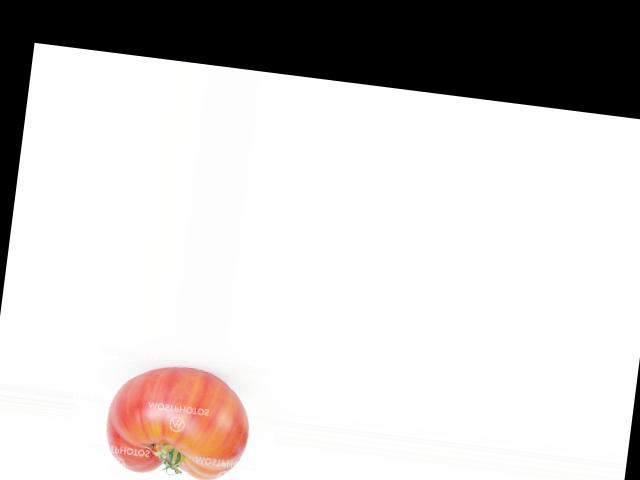tomato: (102, 359, 256, 480)
